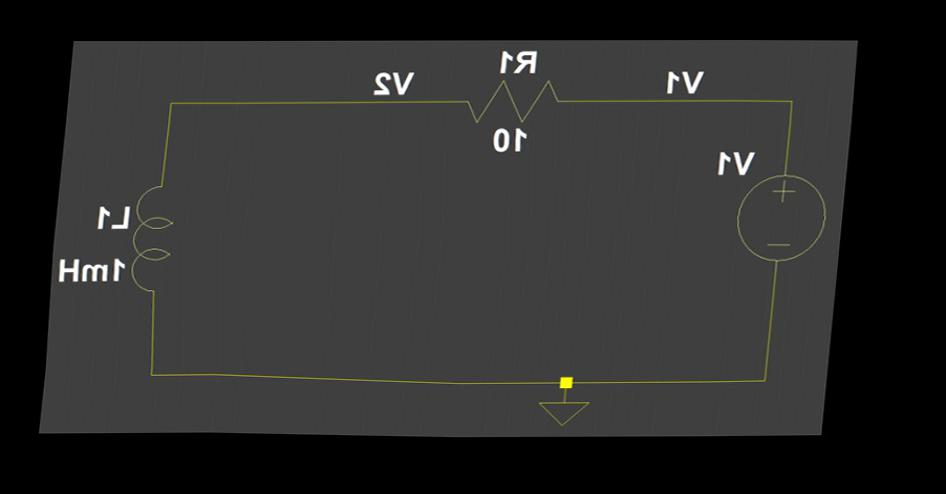Battery: (712, 158, 850, 301)
